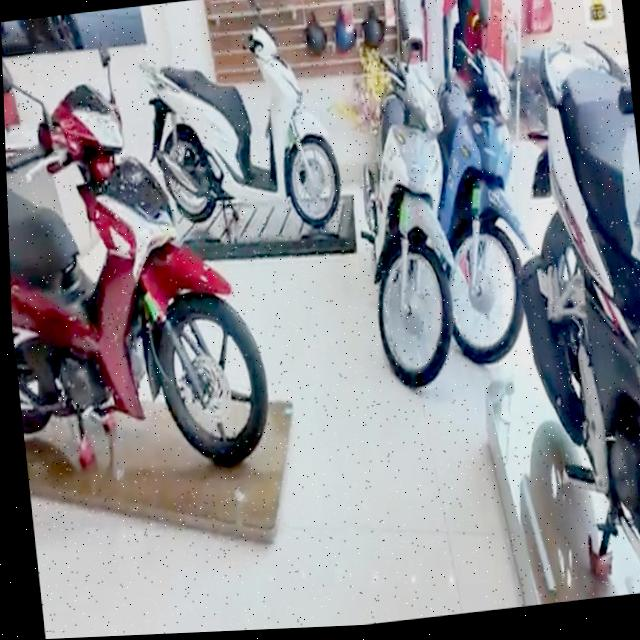motorcycle: (1, 10, 287, 491), (130, 10, 345, 249), (345, 45, 469, 399), (431, 41, 543, 381)
